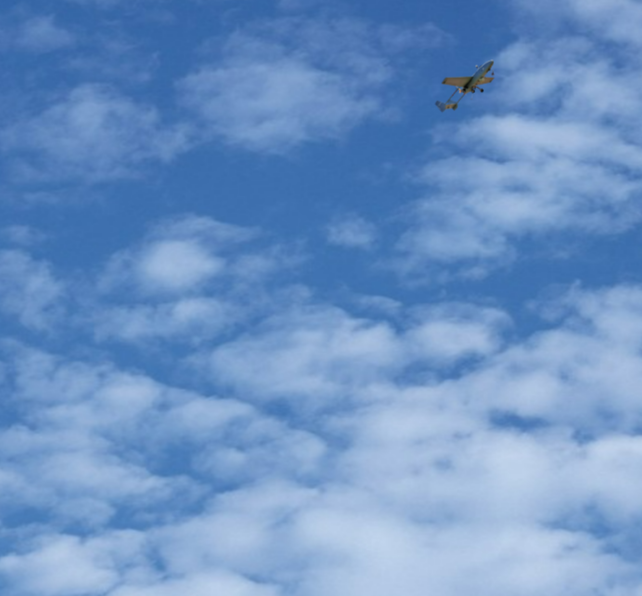military drone: (434, 58, 494, 112)
